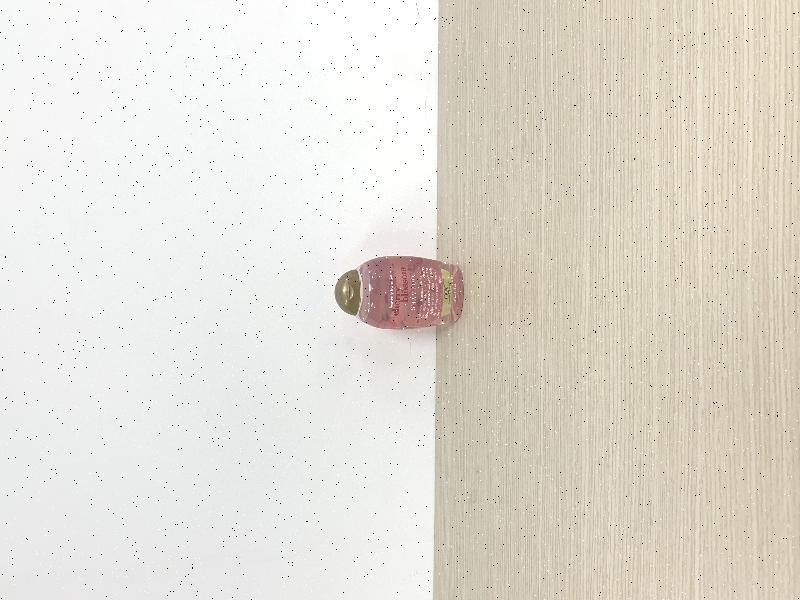CherryBlossom_Shampoo: (335, 256, 464, 330)
